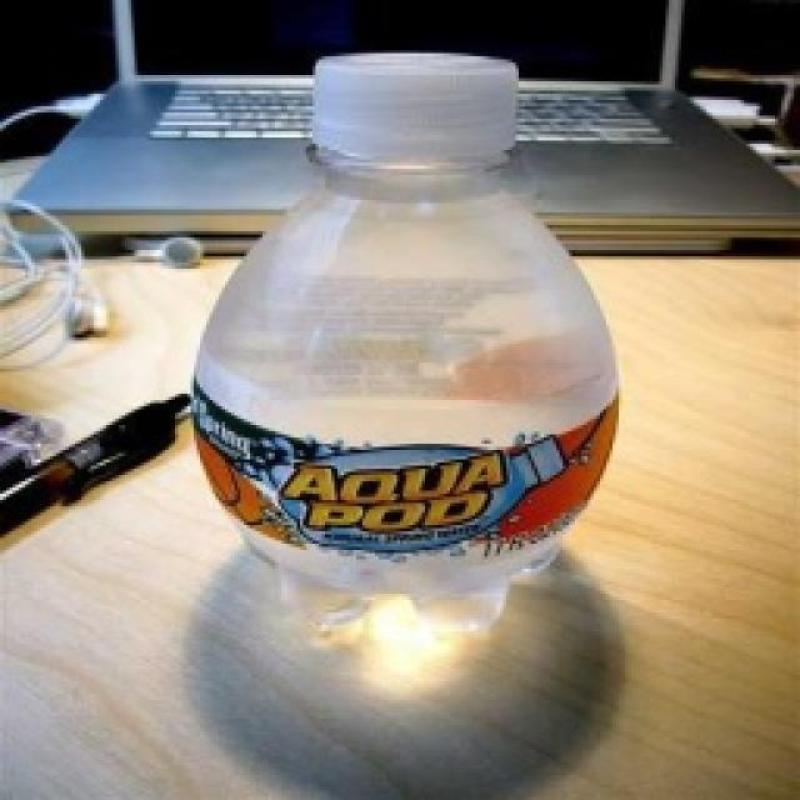botella: (184, 51, 626, 630)
